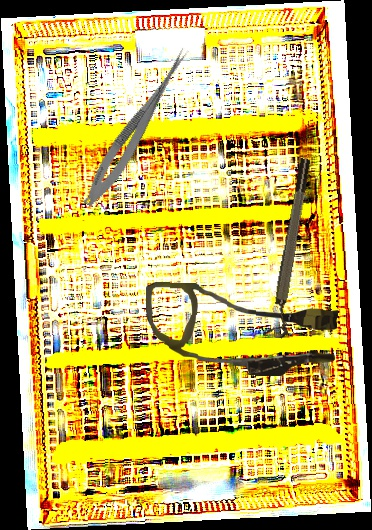Cannula: (143, 281, 339, 379)
Fixation Ring: (262, 157, 322, 340)
Micro Scissor: (77, 41, 195, 212)
